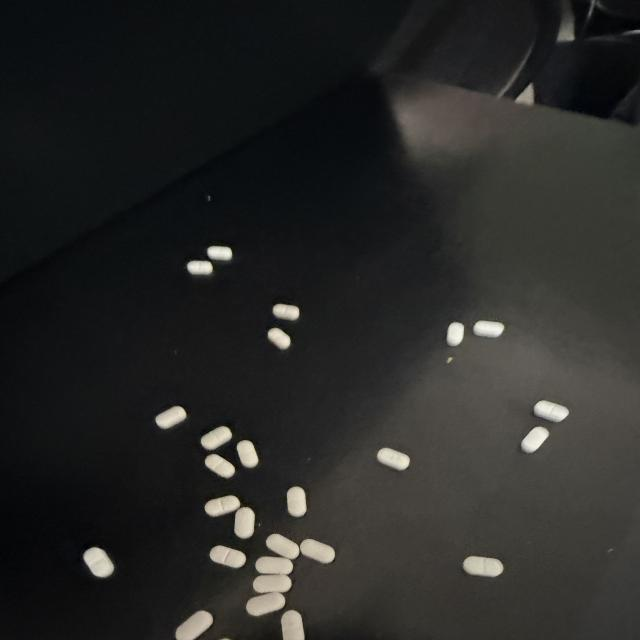pill: (176, 611, 213, 639), (246, 592, 285, 616), (83, 547, 114, 577), (300, 539, 335, 563), (463, 557, 503, 577), (267, 534, 299, 559), (210, 546, 246, 568), (534, 401, 569, 422), (521, 426, 548, 453), (253, 574, 291, 593), (205, 454, 235, 478), (377, 448, 409, 470), (205, 496, 240, 516), (156, 406, 186, 429), (201, 427, 231, 450), (235, 507, 255, 539), (282, 610, 304, 639), (256, 557, 292, 574), (237, 440, 258, 468), (287, 487, 306, 517), (473, 321, 504, 337), (268, 328, 290, 349), (273, 304, 299, 320), (447, 322, 464, 346), (187, 261, 213, 275), (207, 246, 232, 260), (447, 357, 452, 363)
